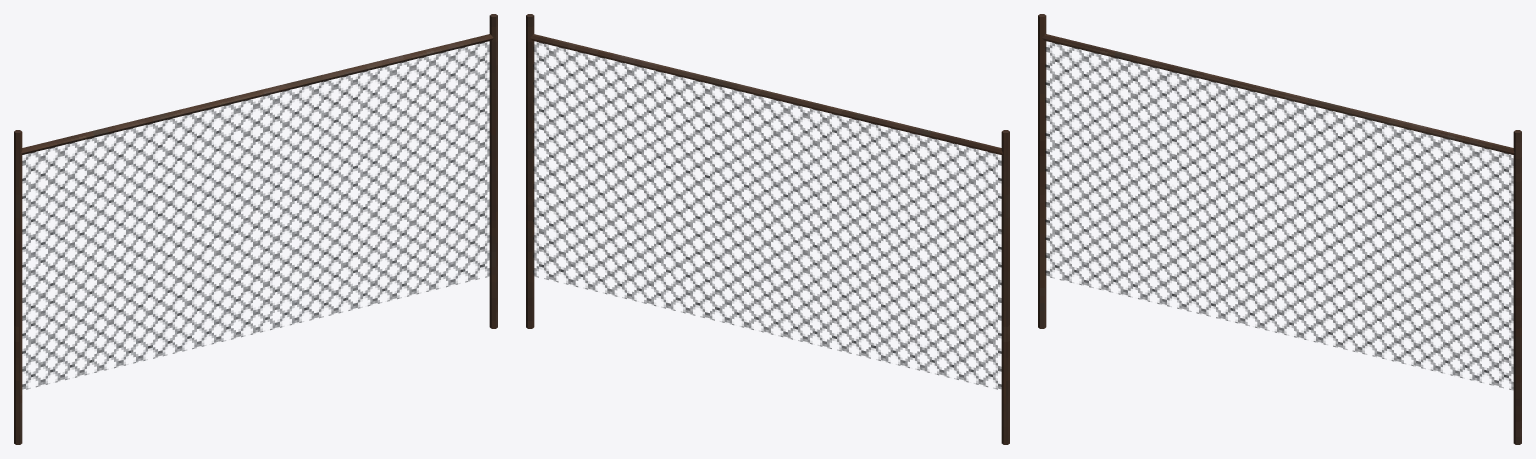
The model's file is metalfence_both_sides_topbar.glb.
3 renders of one model, left to right at view 1: azimuth 30°, elevation 25°; view 2: azimuth 150°, elevation 25°; view 3: azimuth 330°, elevation 25°, orthographic.
Visible parts, largest first — view 1: metalfence_both_sides_topbar; view 2: metalfence_both_sides_topbar; view 3: metalfence_both_sides_topbar.
Boxes of the visible parts, x1,y1,x2,y2 form: metalfence_both_sides_topbar: (14, 14, 497, 444); metalfence_both_sides_topbar: (526, 14, 1009, 444); metalfence_both_sides_topbar: (1038, 14, 1521, 444).
Bounding box in the file's own units: 2.7 × 1.67 × 0.04.
Materials: 2 (2 with a texture image).
